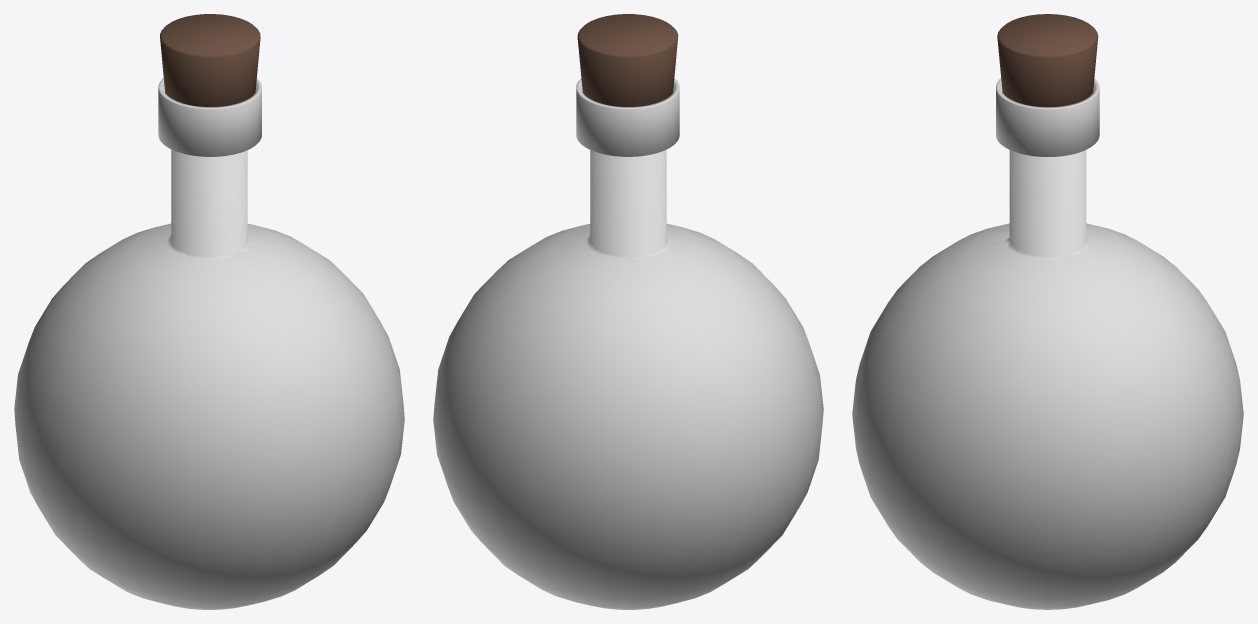
File: potion.fbx
The picture shows the model from 3 angles, left to right: view 1: azimuth 30°, elevation 25°; view 2: azimuth 150°, elevation 25°; view 3: azimuth 270°, elevation 25°; orthographic projection.
Parts seen in each view (by area): view 1: Potion; view 2: Potion; view 3: Potion.
Boxes of the visible parts, x1=… form: Potion: x1=14, y1=14, x2=404, y2=609; Potion: x1=433, y1=14, x2=823, y2=609; Potion: x1=852, y1=14, x2=1243, y2=609.
Size of the model in its own units: 200 by 314 by 200.
